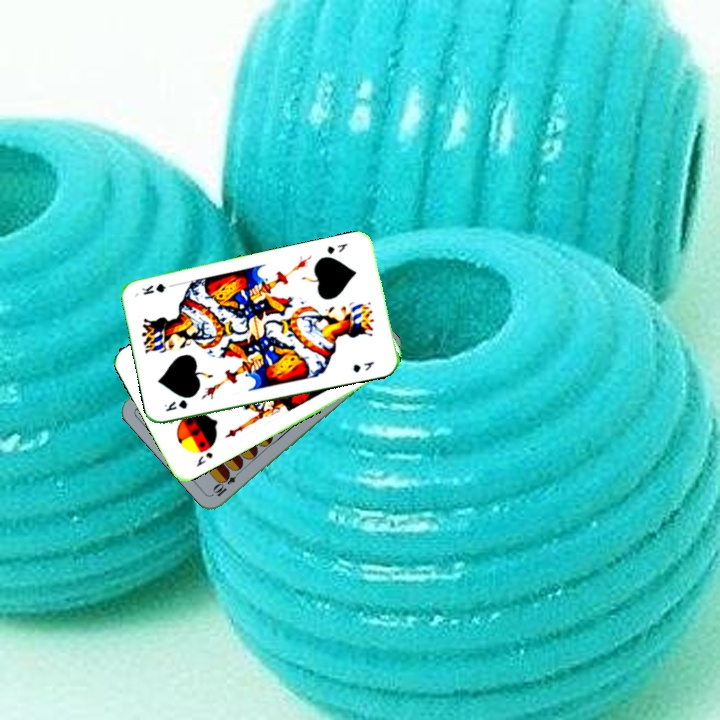E10: (209, 465, 244, 499)
GK: (160, 396, 190, 414), (323, 239, 350, 257)
SK: (192, 448, 215, 469)
